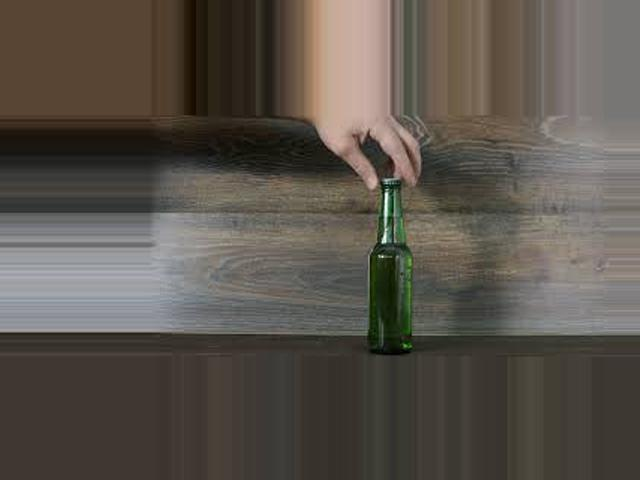beer: (367, 177, 412, 354)
